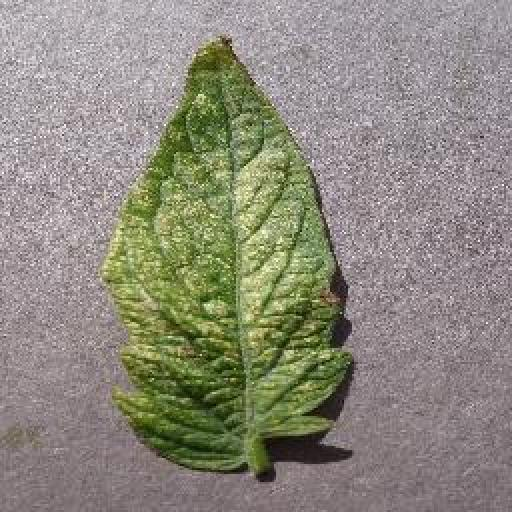disease_tomato: (100, 35, 352, 469)
